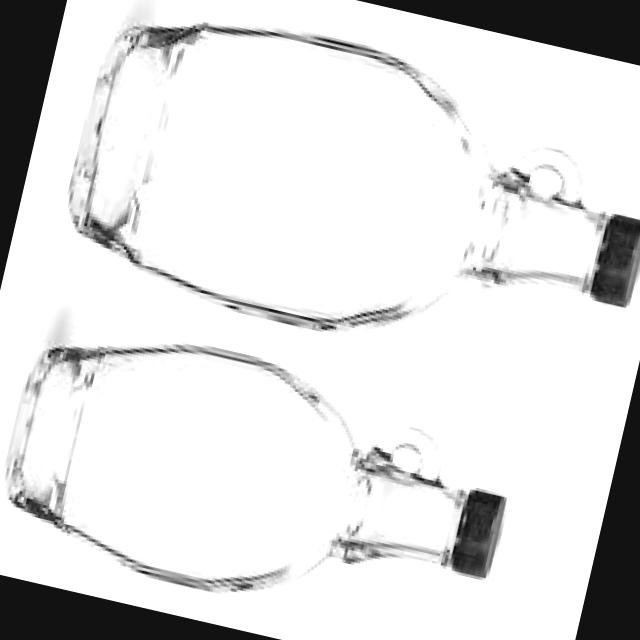bottle: (69, 25, 639, 330), (7, 346, 504, 591)
